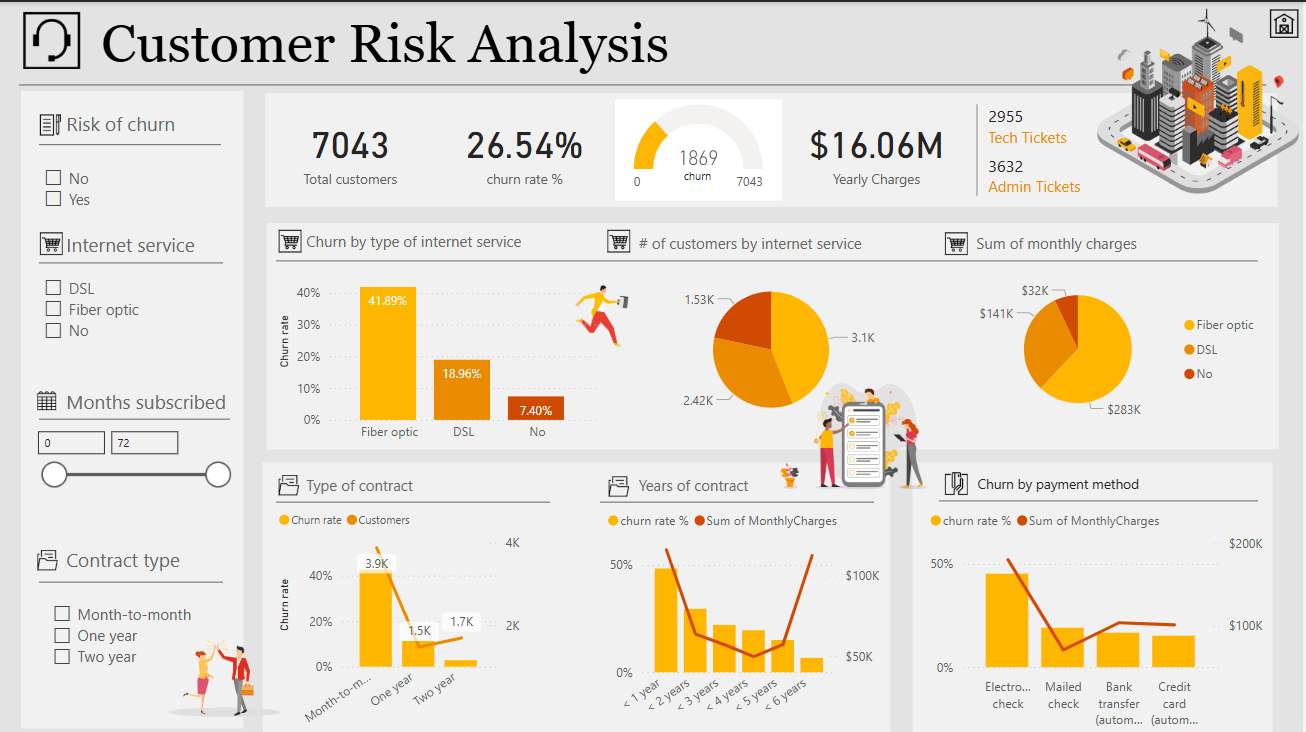

This screenshot's page, from the dashboard's own definition file:
{"tool":"powerbi","page":{"name":"Customer Risk Analysis","canvas":[1280,720],"ordinal":2},"visuals":[{"type":"basicShape","box":[249.8,87.8,1013.8,113.8],"z":0},{"type":"basicShape","box":[892.2,448.5,360.8,271],"z":1000},{"type":"basicShape","box":[251.8,448.5,628.9,271],"z":2000},{"type":"textbox","box":[94.5,4.8,1167.1,75.2],"z":3000},{"type":"basicShape","box":[9,61,1244.3,40.1],"z":4000},{"type":"basicShape","box":[251.8,214.2,1013.8,226.7],"z":5000},{"type":"basicShape","box":[18.3,81,222.8,638.6],"z":6000},{"type":"card","fields":{"Values":["Min(churn.customerID)"]},"box":[261.4,89,164.9,113.8],"z":7000},{"type":"gauge","fields":{"MaxValue":["CountNonNull(churn.customerID)"],"Y":["churn.Count of Churn for Yes"]},"box":[603.8,96.2,164,99.4],"z":8000},{"type":"slicer","fields":{"Values":["churn.Contract"]},"box":[40.5,584.5,178.4,79.1],"z":9000},{"type":"card","fields":{"Values":["Sum(churn.TotalCharges)"]},"box":[778.4,89,164.9,113.8],"z":10000},{"type":"slicer","fields":{"Values":["churn.Churn"]},"box":[31.8,156.3,173.6,57.9],"z":11000},{"type":"image","box":[557.5,242.1,66.6,129.3],"z":12000},{"type":"image","box":[150.5,610.6,136,105.1],"z":13000},{"type":"slicer","title":"Number of months subscribed","fields":{"Values":["churn.tenure"]},"box":[24.1,410.9,210.3,70.4],"z":14000},{"type":"image","box":[17.4,4.8,67.5,65.6],"z":15000},{"type":"textbox","box":[59.8,102.2,174.6,40.5],"z":16000},{"type":"basicShape","box":[28,120.6,198.7,39.5],"z":17000},{"type":"textbox","box":[59.8,374.3,185.2,39.5],"z":18000},{"type":"basicShape","box":[28,389.7,207.4,38.6],"z":19000},{"type":"basicShape","box":[28,549.8,200.6,39.5],"z":20000},{"type":"image","box":[31.8,374.3,28,34.7],"z":21000},{"type":"textbox","box":[59.8,529.6,159.2,40.5],"z":22000},{"type":"image","box":[31.8,105.1,34.7,30.9],"z":23000},{"type":"image","box":[31.8,524.7,29.9,45.3],"z":24000},{"type":"textbox","box":[59.8,221.2,180.4,40.5],"z":25000},{"type":"basicShape","box":[28,237,200.6,38.6],"z":26000},{"type":"slicer","fields":{"Values":["churn.InternetService"]},"box":[31.8,263.3,200.6,78.1],"z":27000},{"type":"card","fields":{"Values":["churn.churn rate %"]},"box":[437,89,156.3,113.8],"z":28000},{"type":"lineClusteredColumnComboChart","fields":{"Category":["churn.Contract"],"Y":["churn.churn rate %"],"Y2":["CountNonNull(churn.customerID)"]},"box":[269.1,489,246.9,230.5],"z":29000},{"type":"lineClusteredColumnComboChart","fields":{"Y":["churn.churn rate %"],"Y2":["CountNonNull(churn.MonthlyCharges)"],"Category":["churn.Loyalty"]},"box":[591.3,489,276.8,230.5],"z":30000},{"type":"textbox","box":[296.1,220,300.9,40.5],"z":31000},{"type":"basicShape","box":[261.4,234.4,982.9,39.5],"z":32000},{"type":"clusteredColumnChart","fields":{"Category":["churn.InternetService"],"Y":["churn.churn rate %"]},"box":[269.1,242.1,322.2,198.7],"z":33000},{"type":"pieChart","fields":{"Y":["CountNonNull(churn.MonthlyCharges)"],"Category":["churn.InternetService"]},"box":[949.1,264.3,295.2,154.3],"z":34000},{"type":"pieChart","fields":{"Category":["churn.InternetService"],"Y":["CountNonNull(churn.customerID)"]},"box":[622.2,261.4,270.1,160.1],"z":35000},{"type":"textbox","box":[954,221.9,283.6,40.5],"z":36000},{"type":"textbox","box":[622.2,221.9,285.5,40.5],"z":37000},{"type":"basicShape","box":[261.4,471.7,288.4,39.5],"z":38000},{"type":"textbox","box":[296.1,459.1,237.3,40.5],"z":39000},{"type":"textbox","box":[622.2,459.1,270.1,40.5],"z":40000},{"type":"basicShape","box":[579.7,471.7,288.4,39.5],"z":41000},{"type":"lineClusteredColumnComboChart","fields":{"Y":["churn.churn rate %"],"Y2":["CountNonNull(churn.MonthlyCharges)"],"Category":["churn.PaymentMethod"]},"box":[907.7,489,336.6,230.5],"z":42000},{"type":"basicShape","box":[911.5,469.8,332.8,39.5],"z":43000},{"type":"textbox","box":[954.3,459.1,270.1,40.5],"z":44000},{"type":"multiRowCard","fields":{"Values":["Sum(churn.numTechTickets)","Sum(churn.numAdminTickets)"]},"box":[954,96.2,207.4,99.4],"z":45000},{"type":"image","box":[922.1,452.4,31.8,39.5],"z":46000},{"type":"image","box":[593.2,452.4,29.9,45.3],"z":47000},{"type":"image","box":[269.1,451.4,29.9,45.3],"z":48000},{"type":"image","box":[34.7,219.9,31.8,34.7],"z":49000},{"type":"image","box":[269.1,217,31.8,34.7],"z":50000},{"type":"image","box":[591.3,217,31.8,34.7],"z":51000},{"type":"image","box":[922.1,219.9,31.8,34.7],"z":52000},{"type":"textbox","box":[666.5,156.3,57.9,28.9],"z":53000},{"type":"image","box":[1072.6,0,207.4,193.9],"z":54000},{"type":"image","box":[1242,0,38,42.9],"z":55000},{"type":"image","box":[752.4,361.7,191,129.3],"z":56000}]}

Visuals, with their boxes in screenshot pixels (x1, y1, x2, y2), scaled from the page's 1280x720 canvas onto the 1306x732 screenshot:
basicShape: select_region(255, 89, 1289, 205)
basicShape: select_region(910, 456, 1278, 731)
basicShape: select_region(257, 456, 899, 731)
textbox: select_region(96, 5, 1287, 81)
basicShape: select_region(9, 62, 1279, 103)
basicShape: select_region(257, 218, 1291, 448)
basicShape: select_region(19, 82, 246, 731)
card - Min(churn.customerID): select_region(267, 90, 435, 206)
gauge - CountNonNull(churn.customerID) x churn.Count of Churn for Yes: select_region(616, 98, 783, 199)
slicer - churn.Contract: select_region(41, 594, 223, 675)
card - Sum(churn.TotalCharges): select_region(794, 90, 962, 206)
slicer - churn.Churn: select_region(32, 159, 210, 218)
image: select_region(569, 246, 637, 378)
image: select_region(154, 621, 292, 728)
"Number of months subscribed" slicer: select_region(25, 418, 239, 489)
image: select_region(18, 5, 87, 72)
textbox: select_region(61, 104, 239, 145)
basicShape: select_region(29, 123, 231, 163)
textbox: select_region(61, 381, 250, 421)
basicShape: select_region(29, 396, 240, 435)
basicShape: select_region(29, 559, 233, 599)
image: select_region(32, 381, 61, 416)
textbox: select_region(61, 538, 223, 580)
image: select_region(32, 107, 68, 138)
image: select_region(32, 533, 63, 580)
textbox: select_region(61, 225, 245, 266)
basicShape: select_region(29, 241, 233, 280)
slicer - churn.InternetService: select_region(32, 268, 237, 347)
card - churn.churn rate %: select_region(446, 90, 605, 206)
lineClusteredColumnComboChart - churn.Contract x churn.churn rate %: select_region(275, 497, 526, 731)
lineClusteredColumnComboChart - churn.churn rate % x CountNonNull(churn.MonthlyCharges): select_region(603, 497, 886, 731)
textbox: select_region(302, 224, 609, 265)
basicShape: select_region(267, 238, 1270, 278)
clusteredColumnChart - churn.InternetService x churn.churn rate %: select_region(275, 246, 603, 448)
pieChart - CountNonNull(churn.MonthlyCharges) x churn.InternetService: select_region(968, 269, 1270, 426)
pieChart - churn.InternetService x CountNonNull(churn.customerID): select_region(635, 266, 910, 429)
textbox: select_region(973, 226, 1263, 267)
textbox: select_region(635, 226, 926, 267)
basicShape: select_region(267, 480, 561, 520)
textbox: select_region(302, 467, 544, 508)
textbox: select_region(635, 467, 910, 508)
basicShape: select_region(591, 480, 886, 520)
lineClusteredColumnComboChart - churn.churn rate % x CountNonNull(churn.MonthlyCharges): select_region(926, 497, 1270, 731)
basicShape: select_region(930, 478, 1270, 518)
textbox: select_region(974, 467, 1249, 508)
multiRowCard - Sum(churn.numTechTickets) x Sum(churn.numAdminTickets): select_region(973, 98, 1185, 199)
image: select_region(941, 460, 973, 500)
image: select_region(605, 460, 636, 506)
image: select_region(275, 459, 305, 505)
image: select_region(35, 224, 68, 259)
image: select_region(275, 221, 307, 256)
image: select_region(603, 221, 636, 256)
image: select_region(941, 224, 973, 259)
textbox: select_region(680, 159, 739, 188)
image: select_region(1094, 0, 1305, 197)
image: select_region(1267, 0, 1305, 44)
image: select_region(768, 368, 963, 499)
